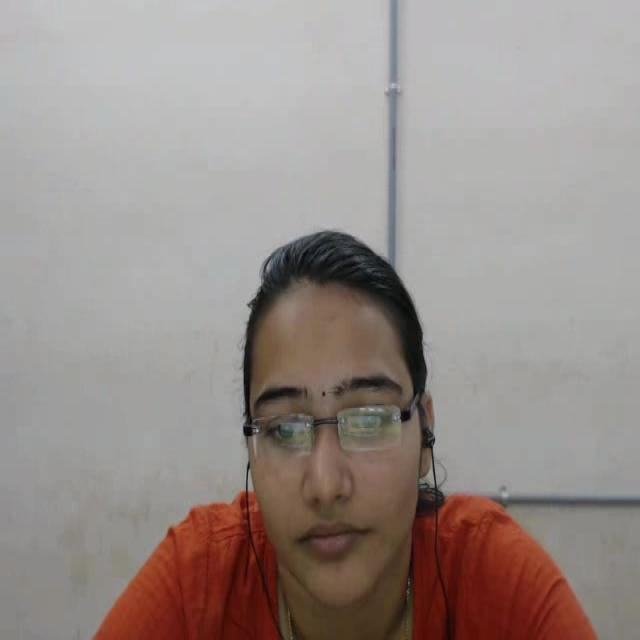Bored: (207, 220, 452, 611)
